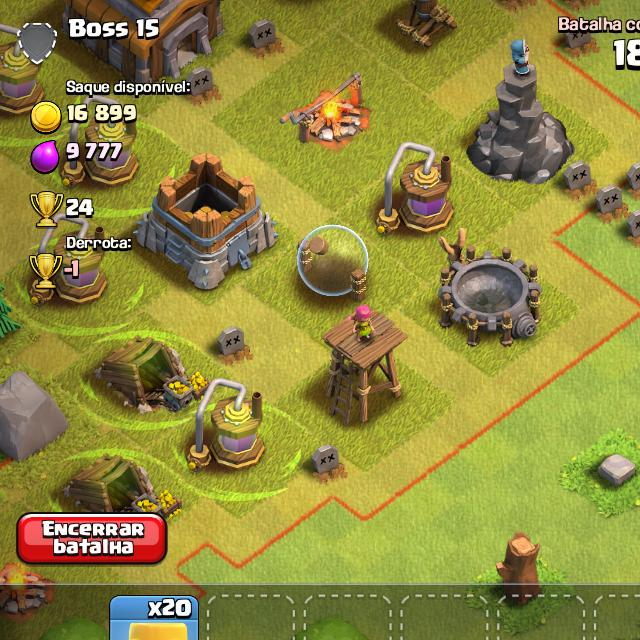Arqueira: (318, 304, 412, 425)
ValueCoin: (66, 99, 149, 133)
ValueElixir: (65, 139, 139, 166)
